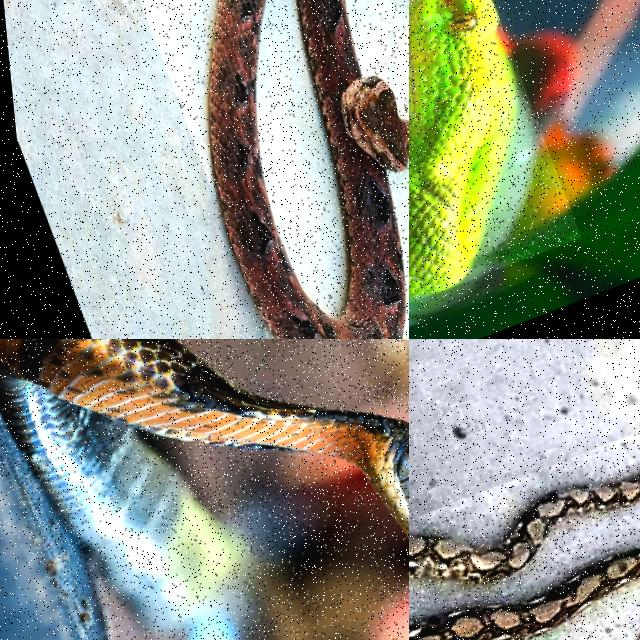Calloselasma rhodostoma: (209, 0, 408, 338)
Malayopython reticulatus: (409, 476, 639, 583)
Ophiophagus hannah: (0, 339, 408, 639)
Trimeresurus macrops: (409, 0, 517, 296)
